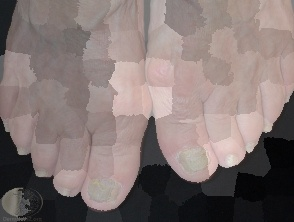Nail_psoriasis: (171, 135, 216, 181), (84, 171, 126, 209), (241, 136, 261, 155), (53, 184, 76, 199), (33, 165, 52, 179), (221, 155, 241, 168), (15, 145, 31, 156), (260, 120, 274, 132), (2, 120, 10, 133)
